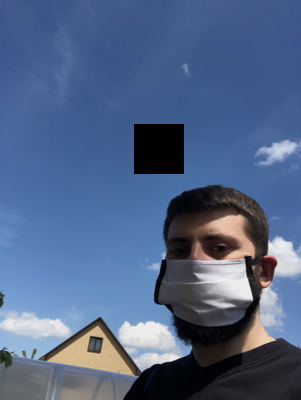with_mask: (155, 227, 253, 345)
